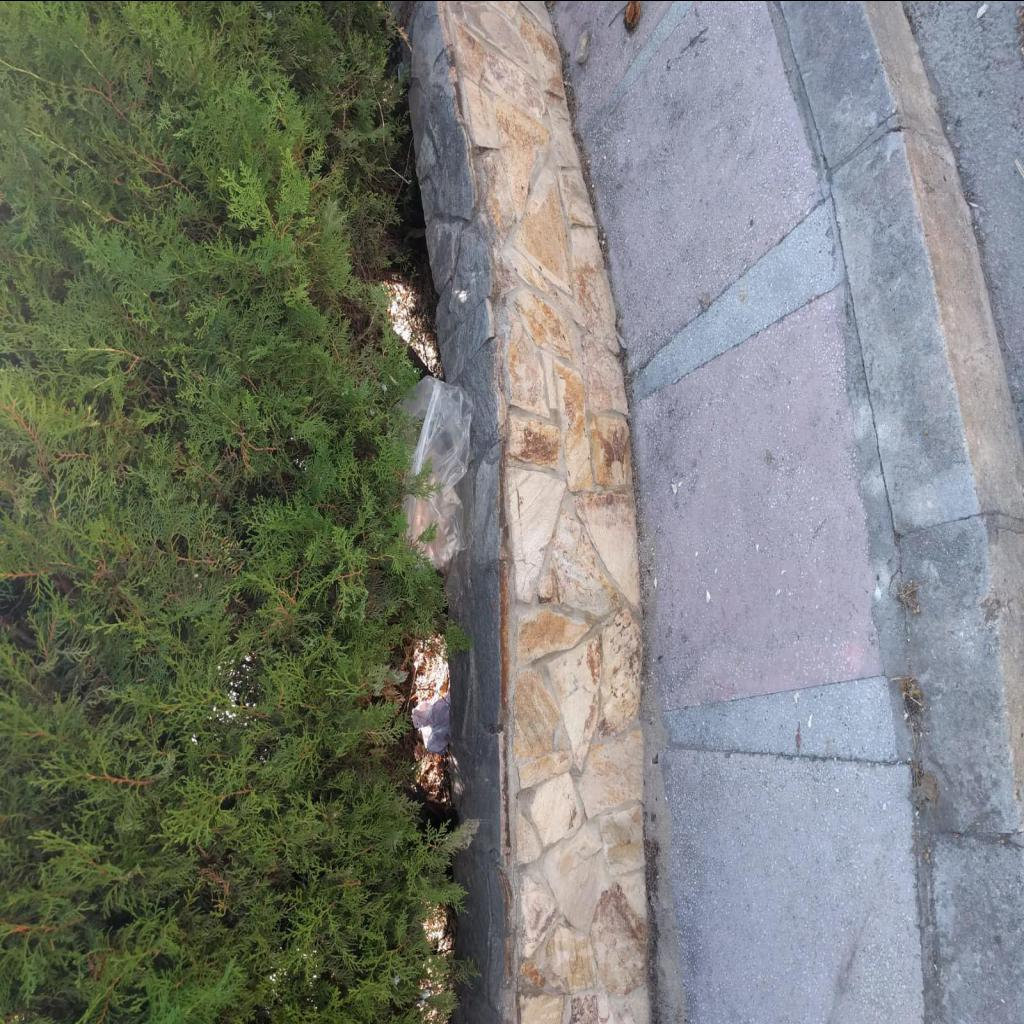Plastic film: (393, 374, 473, 606)
Unlabeled litter: (413, 692, 450, 752)
